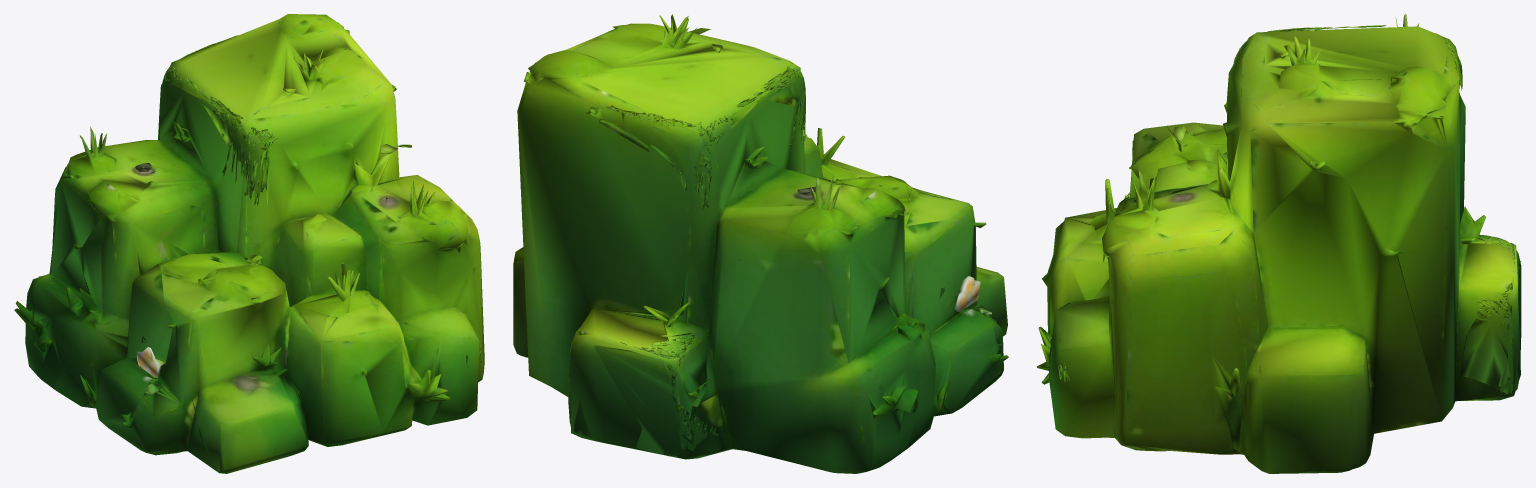
The picture shows the model from 3 angles, left to right: view 1: azimuth 30°, elevation 25°; view 2: azimuth 150°, elevation 25°; view 3: azimuth 270°, elevation 25°; orthographic projection. The views are drawn at different scales.
Parts seen in each view (by area): view 1: world; view 2: world; view 3: world.
Boxes of the visible parts, x1,y1,x2,y2 form: world: [14, 14, 484, 473]; world: [513, 14, 1008, 473]; world: [1037, 14, 1521, 473].
Bounding box in the file's own units: 0.9896 × 0.7896 × 0.9562.
Materials: 1 (1 with a texture image).
